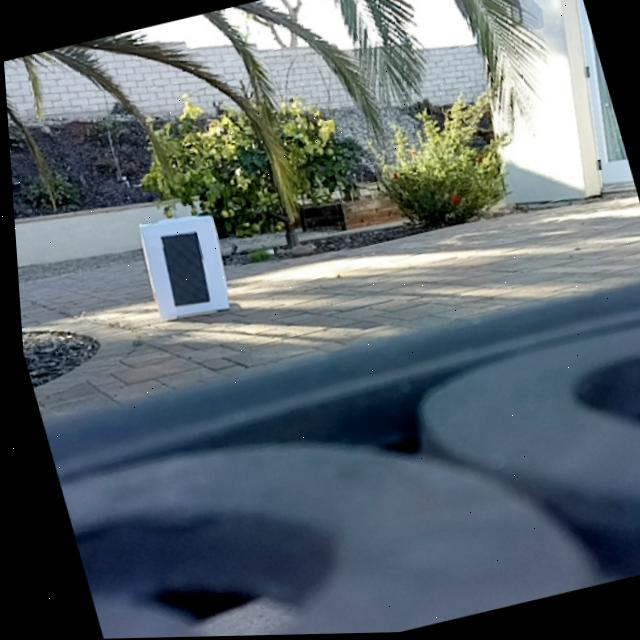led: (149, 225, 214, 311)
